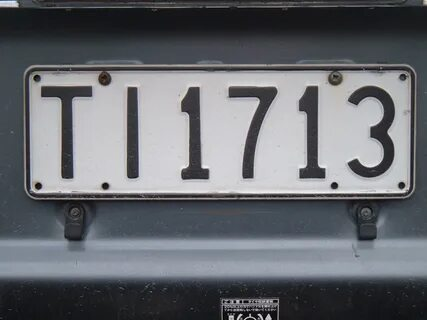number_plate: (27, 64, 414, 197)
